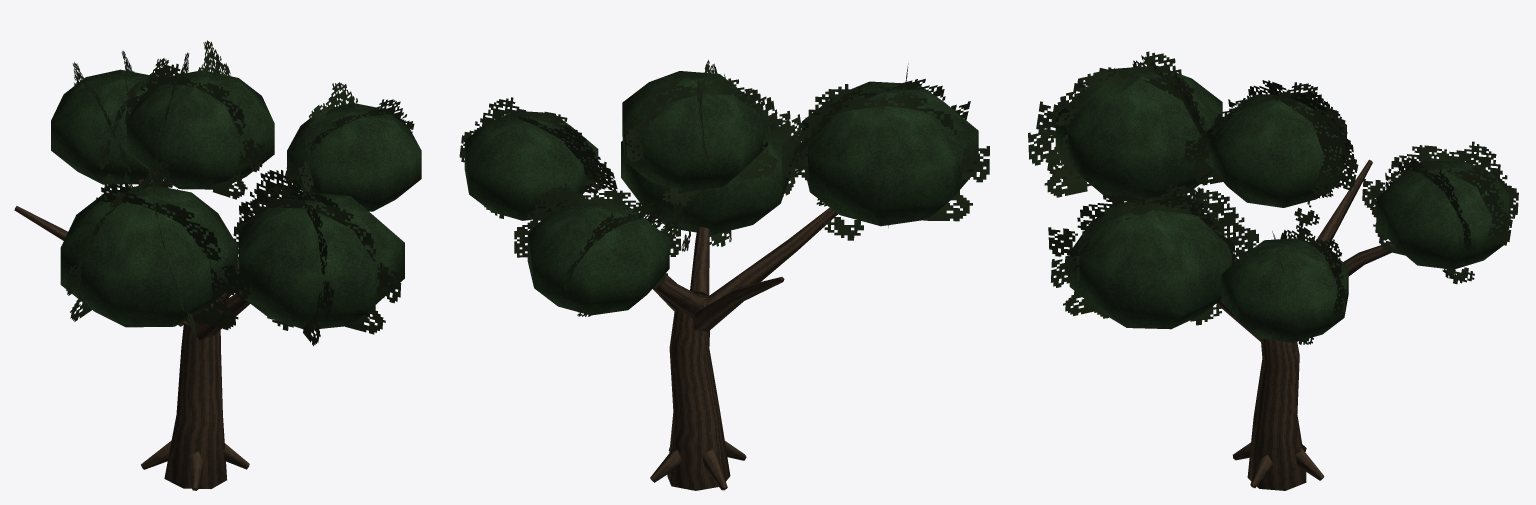
Rendered from park_oak.glb.
The picture shows the model from 3 angles, left to right: view 1: azimuth 30°, elevation 25°; view 2: azimuth 150°, elevation 25°; view 3: azimuth 270°, elevation 25°; orthographic projection. The views are drawn at different scales.
Parts seen in each view (by area): view 1: canopy, trunk-col, branches; view 2: canopy, trunk-col, branches; view 3: canopy, trunk-col, branches.
Boxes of the visible parts, box(x1,y1,x2,y2) form: canopy: box(51, 40, 421, 346); trunk-col: box(164, 298, 226, 488); branches: box(14, 179, 250, 490); canopy: box(459, 60, 989, 316); trunk-col: box(667, 291, 730, 490); branches: box(650, 207, 837, 490); canopy: box(1028, 51, 1518, 344); trunk-col: box(1247, 339, 1306, 490); branches: box(1176, 159, 1394, 488).
Bounding box in the file's own units: 7.32 × 6.54 × 7.42.
3 materials, 3 textured.
